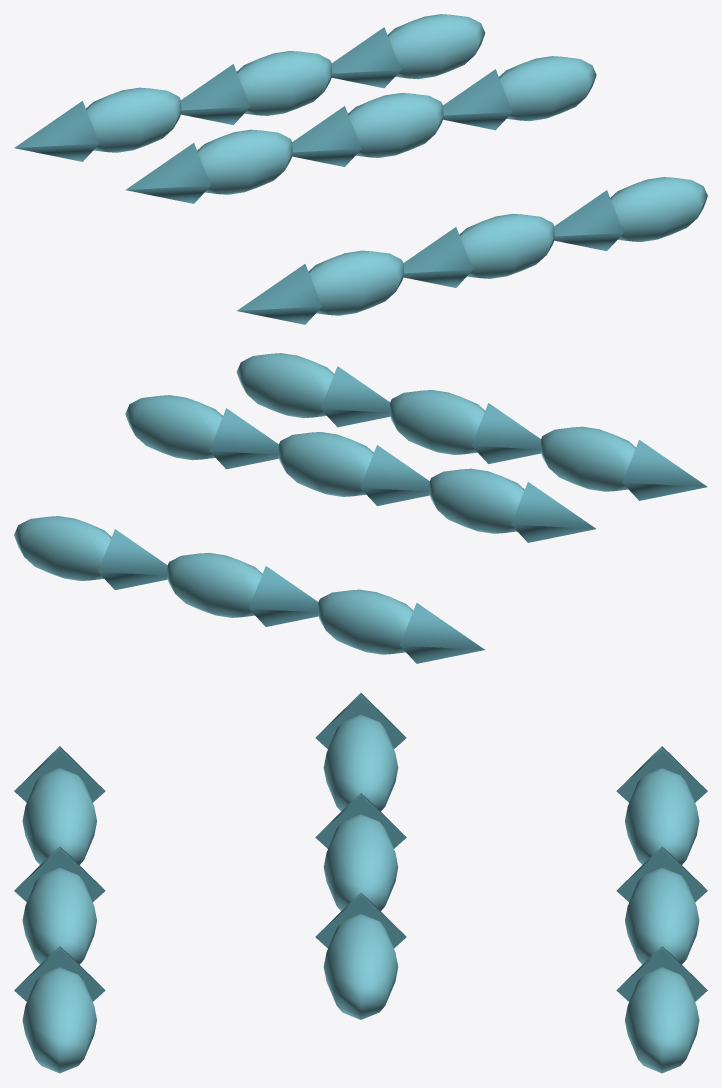
Rendered from creature-fish-school.glb.
3 views of the same model, one above another, from view 1: azimuth 30°, elevation 25°; view 2: azimuth 150°, elevation 25°; view 3: azimuth 270°, elevation 25° (orthographic). The views are drawn at different scales.
Visible parts, largest first — view 1: FishBody_5, FishBody_2, FishBody_8, FishBody_3, FishBody_0, FishBody_6, FishBody_4, FishBody_7, FishBody_1, FishTail_3, FishTail_0, FishTail_6 (+6 smaller); view 2: FishBody_5, FishBody_8, FishBody_2, FishBody_3, FishBody_6, FishBody_0, FishBody_4, FishBody_1, FishBody_7, FishTail_3, FishTail_6, FishTail_0 (+6 smaller); view 3: FishBody_5, FishBody_2, FishBody_8, FishBody_3, FishBody_1, FishBody_7, FishBody_0, FishBody_6, FishBody_4, FishTail_3, FishTail_1, FishTail_7 (+6 smaller).
Boxes of the visible parts, <box> form: FishBody_5: <box>499,56,596,121</box>; FishBody_2: <box>387,14,485,79</box>; FishBody_8: <box>610,177,707,241</box>; FishBody_3: <box>197,129,292,194</box>; FishBody_0: <box>86,87,181,152</box>; FishBody_6: <box>308,250,403,315</box>; FishBody_4: <box>348,93,443,157</box>; FishBody_7: <box>459,214,554,278</box>; FishBody_1: <box>237,51,332,115</box>; FishTail_3: <box>126,143,210,203</box>; FishTail_0: <box>14,101,99,161</box>; FishTail_6: <box>237,264,321,324</box>; FishBody_5: <box>125,395,222,460</box>; FishBody_8: <box>236,353,334,418</box>; FishBody_2: <box>14,516,111,580</box>; FishBody_3: <box>429,468,524,533</box>; FishBody_6: <box>540,426,635,491</box>; FishBody_0: <box>318,589,413,654</box>; FishBody_4: <box>278,432,373,496</box>; FishBody_1: <box>167,553,262,617</box>; FishBody_7: <box>389,390,484,454</box>; FishTail_3: <box>511,482,595,542</box>; FishTail_6: <box>622,440,707,500</box>; FishTail_0: <box>400,603,484,663</box>; FishBody_5: <box>323,914,398,1019</box>; FishBody_2: <box>625,967,699,1073</box>; FishBody_8: <box>22,967,96,1073</box>; FishBody_3: <box>323,714,398,811</box>; FishBody_1: <box>625,867,699,964</box>; FishBody_7: <box>22,867,96,964</box>; FishBody_0: <box>625,768,699,864</box>; FishBody_6: <box>22,768,96,864</box>; FishBody_4: <box>323,814,398,910</box>; FishTail_3: <box>315,693,406,748</box>; FishTail_1: <box>616,846,707,902</box>; FishTail_7: <box>14,846,105,902</box>.
Bounding box in the file's own units: 5.62 × 1.15 × 5.3.
